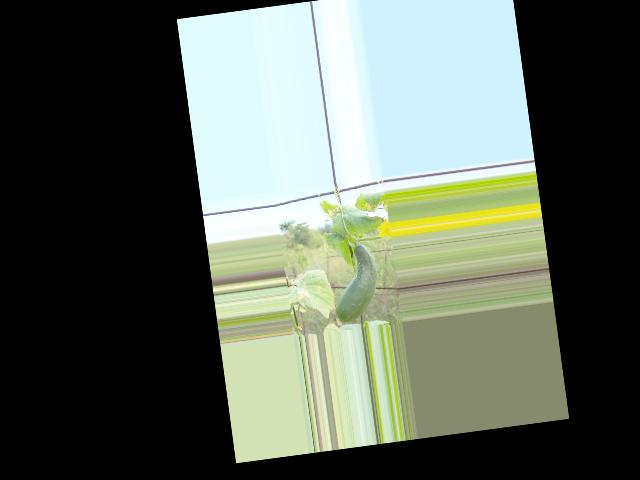cucumber: (326, 241, 383, 324)
